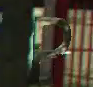Parking: (29, 10, 77, 86)
